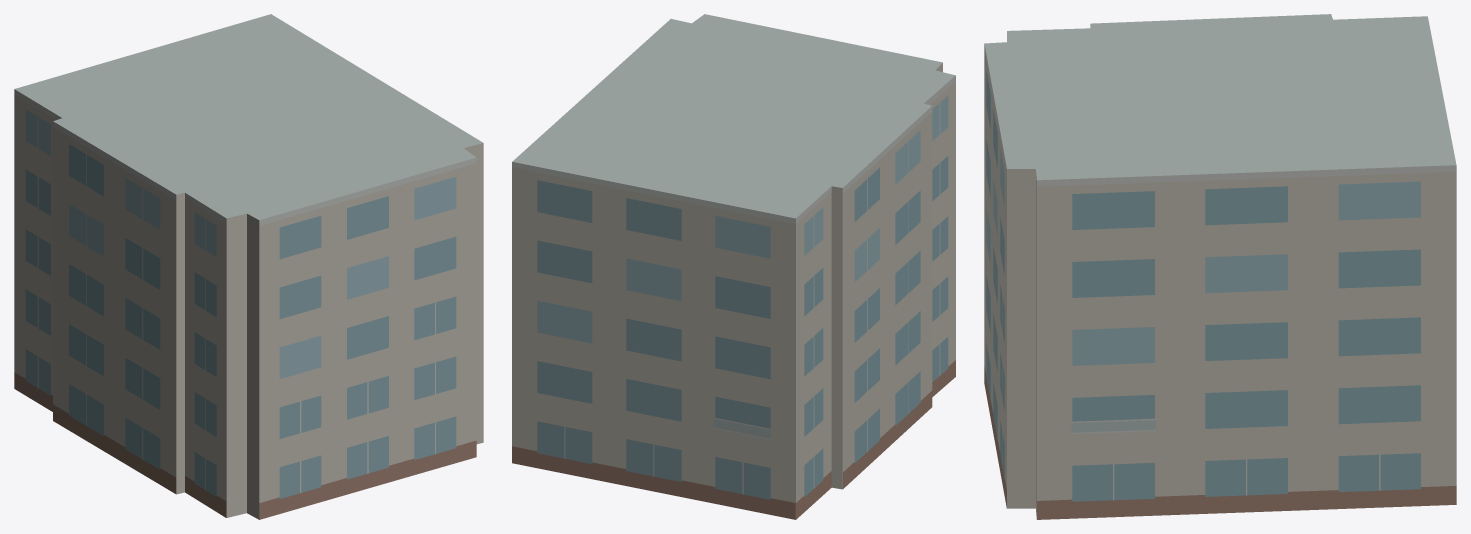
Rendered from survey-upis-32620531.glb.
The picture shows the model from 3 angles, left to right: view 1: azimuth 30°, elevation 25°; view 2: azimuth 150°, elevation 25°; view 3: azimuth 270°, elevation 25°; orthographic projection. The views are drawn at different scales.
Parts seen in each view (by area): view 1: survey-upis-32620531.tmp; view 2: survey-upis-32620531.tmp; view 3: survey-upis-32620531.tmp.
Part boxes in pixels (left/top/right/bottom): survey-upis-32620531.tmp: left=14, top=14, right=483, bottom=519; survey-upis-32620531.tmp: left=512, top=14, right=955, bottom=519; survey-upis-32620531.tmp: left=984, top=14, right=1456, bottom=519.
Bounding box in the file's own units: 13.35 × 12.7 × 16.01.
